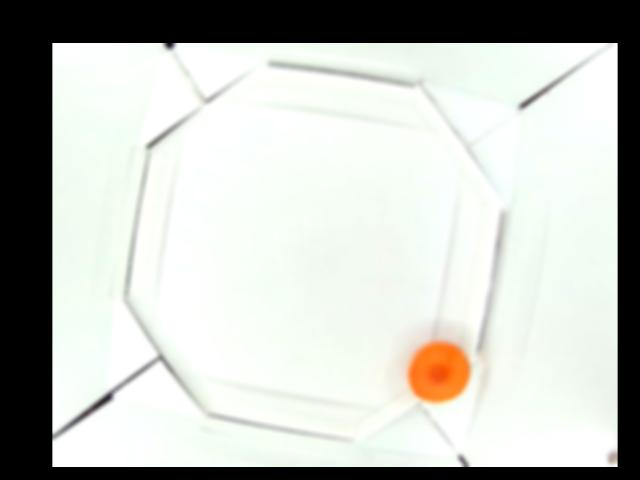Carrot: (407, 341, 470, 402)
